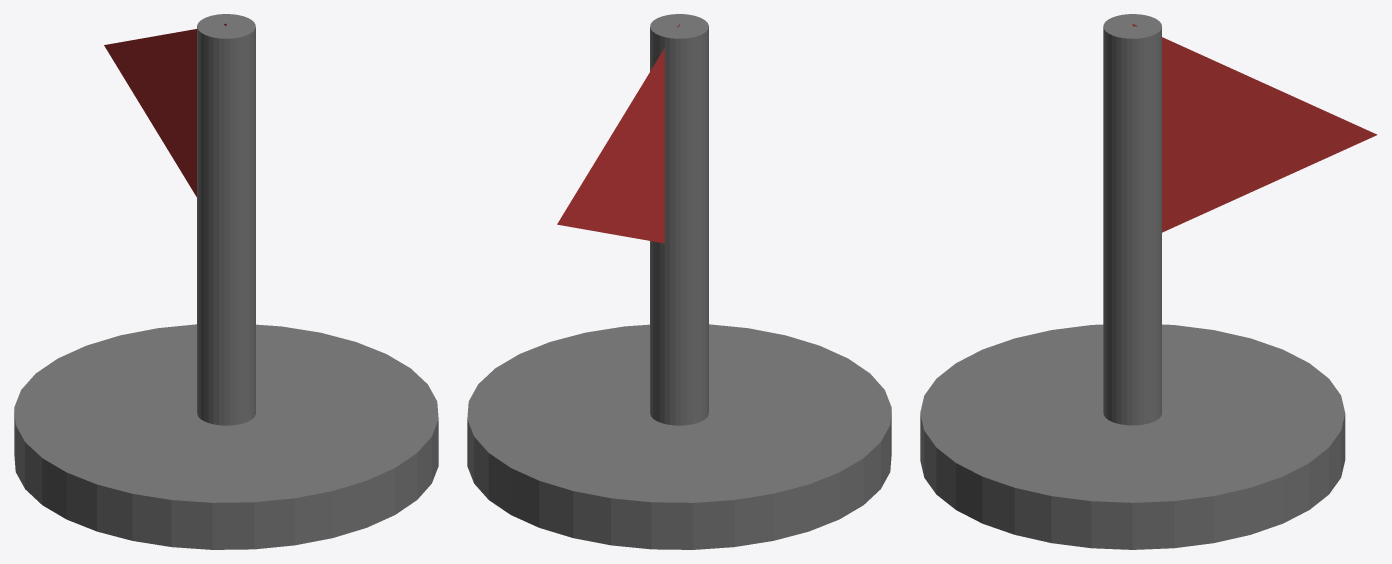
File: goal.obj
3 renders of one model, left to right at view 1: azimuth 30°, elevation 25°; view 2: azimuth 150°, elevation 25°; view 3: azimuth 270°, elevation 25°, orthographic.
Visible parts, largest first — view 1: 平面; view 2: 平面; view 3: 平面.
Boxes of the visible parts, box(x1,y1,x2,y2) form: 平面: box(14, 14, 438, 549); 平面: box(467, 14, 891, 549); 平面: box(920, 14, 1377, 549).
Bounding box in the file's own units: 0.7555 × 0.856 × 0.8133.
